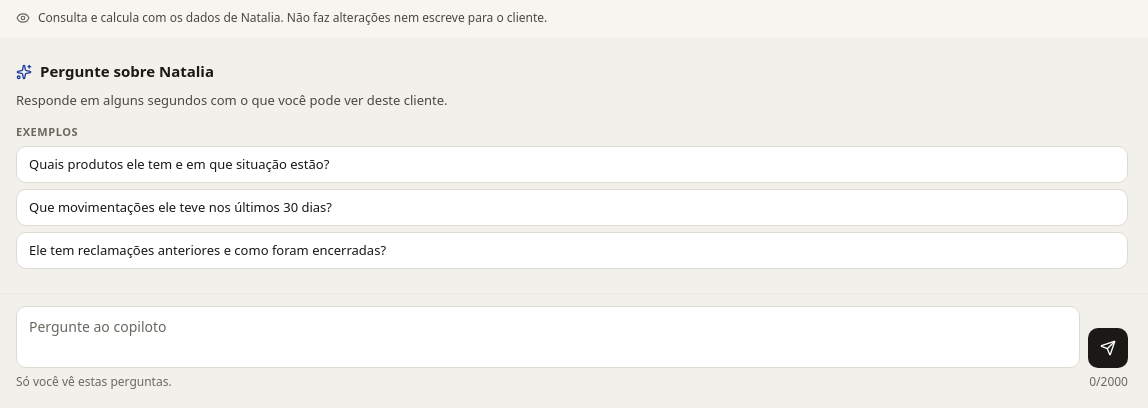
Test case: CopilotPanel in Portuguese (slice 23) › speaks pt-BR: the notice, the starters, a failed question and its retry
This screenshot has width=1148, height=408.
Expected: the text "Consulta e calcula com os dados de Natalia. Não faz alterações nem escreve para o cliente." is shown, [38,9,547,26]
Expected: the heading "Pergunte sobre Natalia" is shown, [16,61,214,81]
Click the button "Ele tem reclamações anteriores e como foram encerradas?" at (208, 250), box [16,232,1128,269]
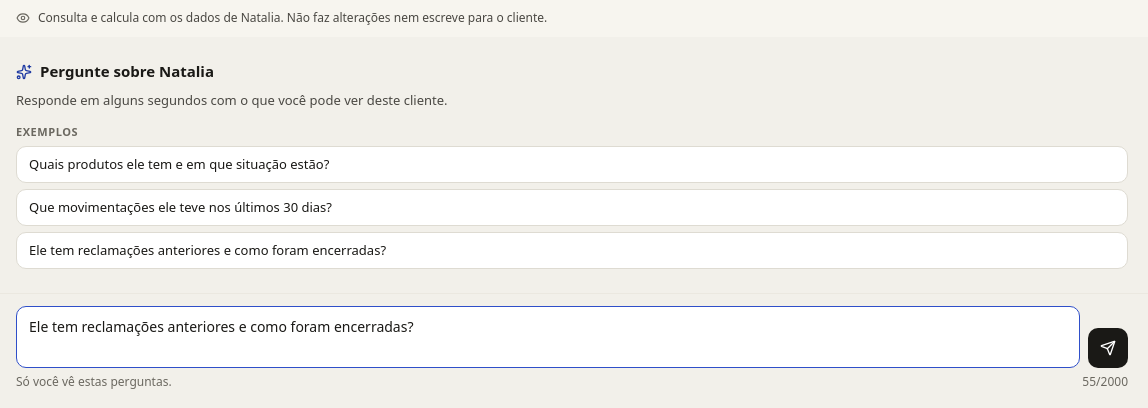
Now the text box named "Pergunte ao copiloto" holds "Ele tem reclamações anteriores e como foram encerradas?", box [16,306,1080,368]
Click the button named "Perguntar" at (1108, 348), box [1088,328,1128,368]
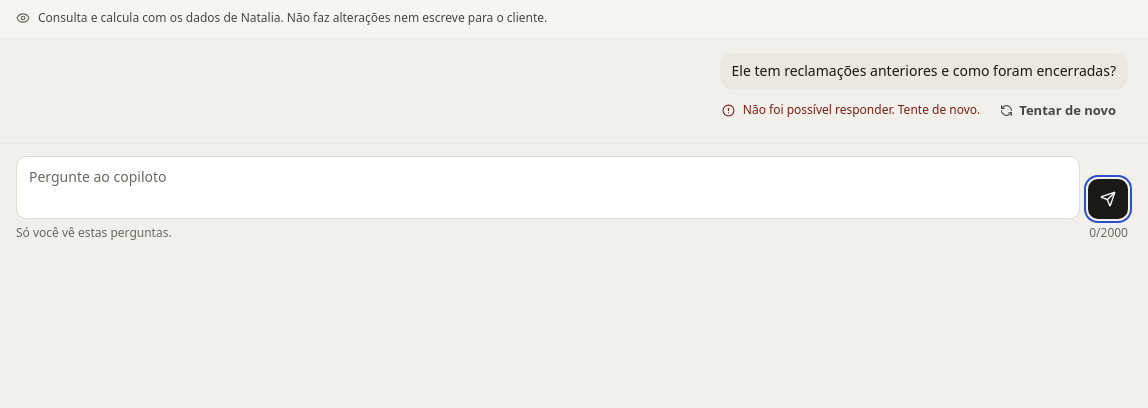
Now the message shows "Não foi possível responder. Tente de novo.", box [743,101,980,118]
Now the button "Tentar de novo" is shown, box [988,93,1128,127]
